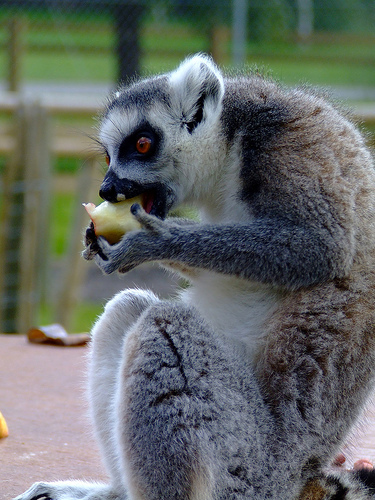cat: (12, 50, 372, 496)
